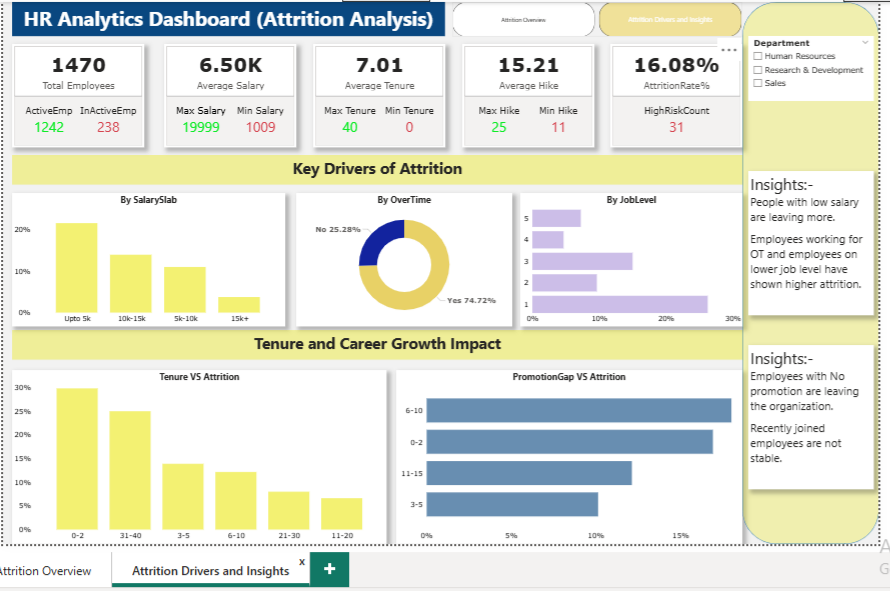

The dashboard page shown, as its layout file describes it:
{"tool":"powerbi","page":{"name":"Attrition Drivers and Insights","canvas":[2100,1300],"ordinal":1},"visuals":[{"type":"cardVisual","fields":{"Data":["Count(HR_Analytics.EmpID)"]},"box":[21.1,100.4,317.1,248.4],"z":0},{"type":"cardVisual","fields":{"Data":["Avg(HR_Analytics.MonthlyIncome)"]},"box":[385.8,100.4,317.1,248.4],"z":1000},{"type":"cardVisual","fields":{"Data":["Avg(HR_Analytics.YearsAtCompany)"]},"box":[742.5,100.4,317.1,248.4],"z":2000},{"type":"cardVisual","fields":{"Data":["Avg(HR_Analytics.PercentSalaryHike)"]},"box":[1101.8,100.4,317.1,248.4],"z":3000},{"type":"cardVisual","fields":{"Data":["_Measure.AttritionRate%"]},"box":[1455.9,100.4,317.1,248.4],"z":4000},{"type":"textbox","box":[21.1,367.3,1751.8,71.3],"z":5000},{"type":"columnChart","title":"By SalarySlab","fields":{"Y":["_Measure.AttritionRate%"],"Category":["HR_Analytics.SalarySlab"]},"box":[21.1,457.1,655.3,319.7],"z":6000},{"type":"donutChart","title":"By OverTime","fields":{"Y":["_Measure.AttritionRate%"],"Category":["HR_Analytics.OverTime"]},"box":[702.8,457.1,517.9,319.7],"z":7000},{"type":"clusteredBarChart","title":"By JobLevel","fields":{"Y":["_Measure.AttritionRate%"],"Category":["HR_Analytics.JobLevel"]},"box":[1239.2,457.1,533.7,319.7],"z":8000},{"type":"textbox","box":[21.1,787.4,1751.8,71],"z":9000},{"type":"clusteredColumnChart","title":"Tenure VS Attrition","fields":{"Category":["HR_Analytics.YearsAtCompanyGroup"],"Y":["_Measure.AttritionRate%"]},"box":[21.1,882.5,898.4,417.5],"z":10000},{"type":"clusteredBarChart","title":"PromotionGap VS Attrition","fields":{"Y":["_Measure.AttritionRate%"],"Category":["HR_Analytics.YearsSinceLastPromotionGroup"]},"box":[943.3,882.5,829.7,417.5],"z":11000},{"type":"shape","box":[1773,0,327.6,1300],"z":12000},{"type":"textbox","box":[21.1,0,1038.4,81.9],"z":13000},{"type":"pageNavigator","box":[1078,0,694.9,84.6],"z":14000},{"type":"slicer","fields":{"Values":["HR_Analytics.Department"]},"box":[1786.2,81.9,301.2,155.9],"z":15000},{"type":"textbox","box":[1786.2,404.3,301.2,346.1],"z":16000},{"type":"textbox","box":[1786.2,821.7,301.2,346.1],"z":17000}]}

Visuals, with their boxes on the page's 2100x1300 design canvas (x1, y1, x2, y2). These are canvas units, not pixel positions in the 890x591 screenshot, which may show the page scaled, cropped or inside an application window:
cardVisual - Count(HR_Analytics.EmpID): locate(21, 100, 338, 349)
cardVisual - Avg(HR_Analytics.MonthlyIncome): locate(386, 100, 703, 349)
cardVisual - Avg(HR_Analytics.YearsAtCompany): locate(742, 100, 1060, 349)
cardVisual - Avg(HR_Analytics.PercentSalaryHike): locate(1102, 100, 1419, 349)
cardVisual - _Measure.AttritionRate%: locate(1456, 100, 1773, 349)
textbox: locate(21, 367, 1773, 439)
"By SalarySlab" columnChart: locate(21, 457, 676, 777)
"By OverTime" donutChart: locate(703, 457, 1221, 777)
"By JobLevel" clusteredBarChart: locate(1239, 457, 1773, 777)
textbox: locate(21, 787, 1773, 858)
"Tenure VS Attrition" clusteredColumnChart: locate(21, 882, 920, 1300)
"PromotionGap VS Attrition" clusteredBarChart: locate(943, 882, 1773, 1300)
shape: locate(1773, 0, 2101, 1300)
textbox: locate(21, 0, 1060, 82)
pageNavigator: locate(1078, 0, 1773, 85)
slicer - HR_Analytics.Department: locate(1786, 82, 2087, 238)
textbox: locate(1786, 404, 2087, 750)
textbox: locate(1786, 822, 2087, 1168)
